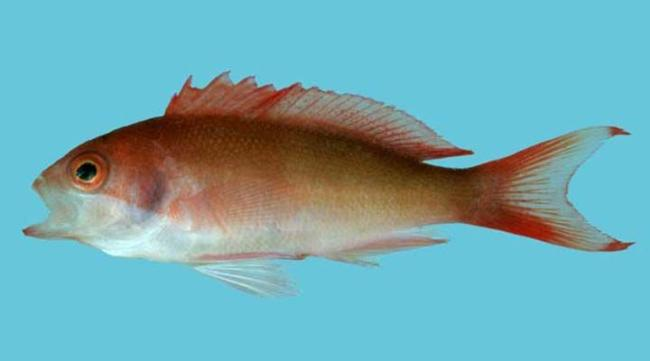fish: (22, 70, 637, 300)
